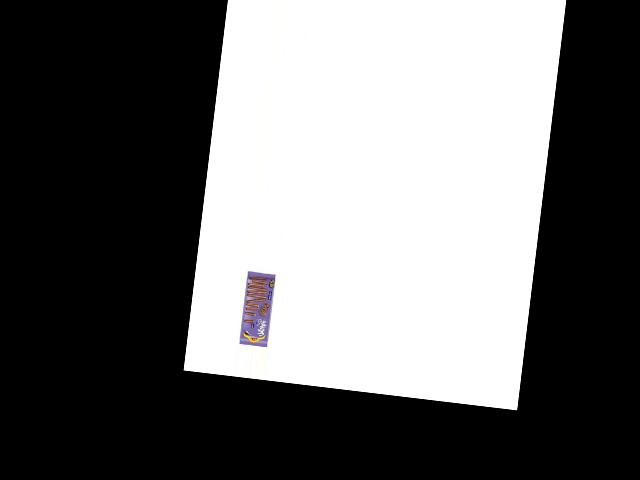chocolate: (235, 269, 276, 348)
